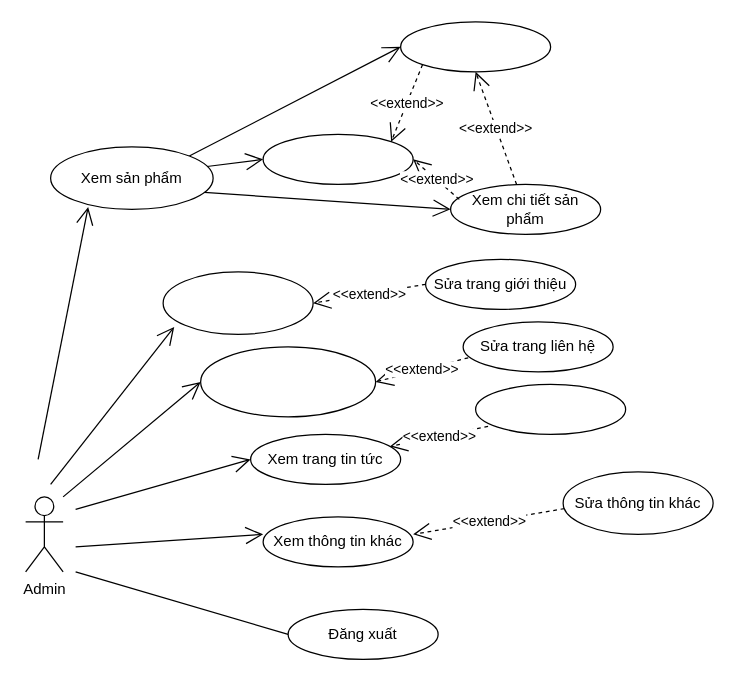
Some shapes in this 735 by 681 pixel diagram are drawn without their labels. The centre of each missing label's shape, as x and y in pixels:
Sửa trang tin tức: (550,408)
Tìm kiếm sản phẩm: (475,46)
Xem trang giới thiệu công ty: (237,302)
Xem trang sản phẩm: (337,158)
Xem trang thông tin liên hệ nhà phân phối: (287,381)
